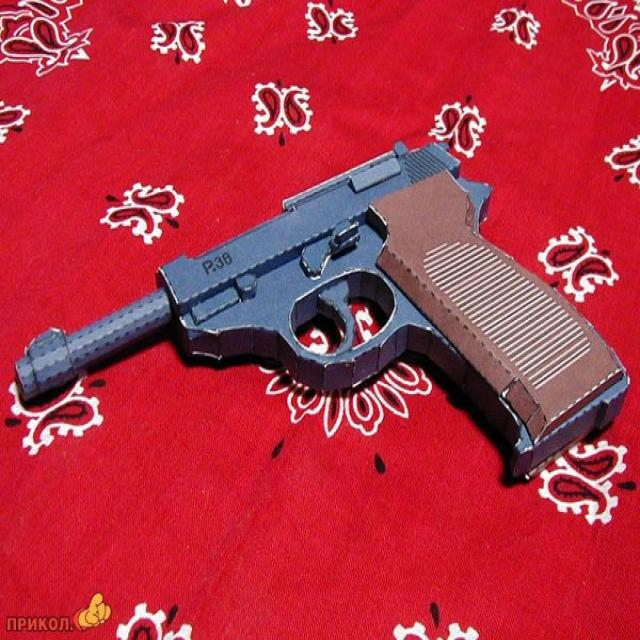pistol: (16, 140, 631, 483)
